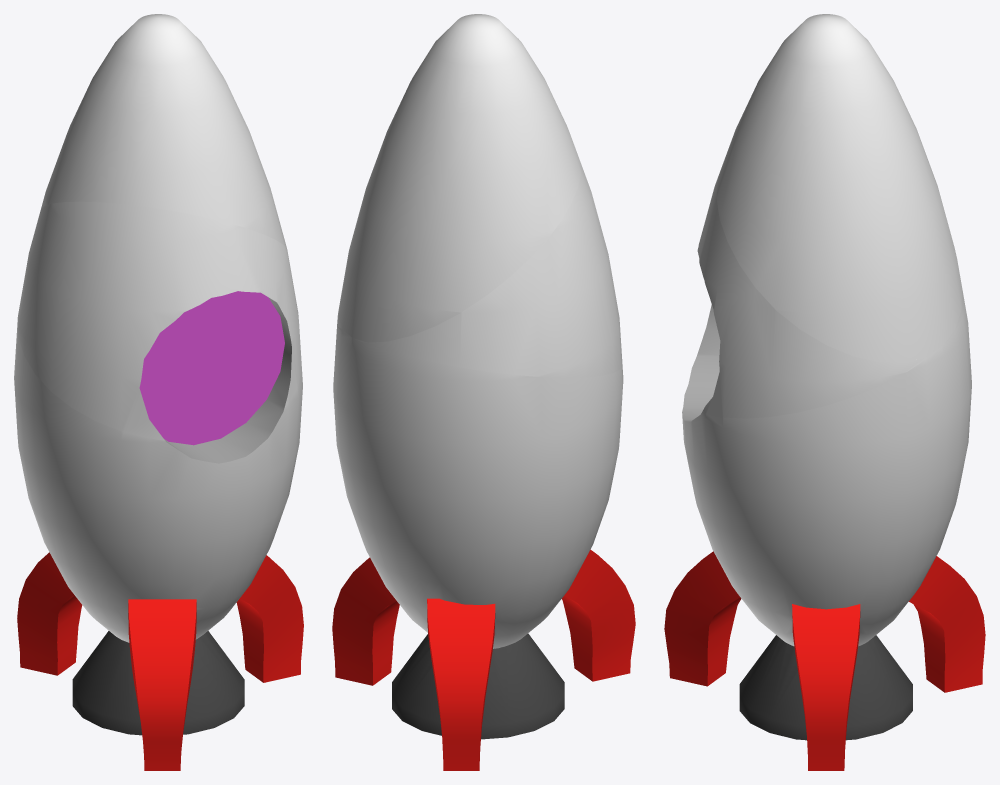
File: mode_break_rocket.FBX
3 renders of one model, left to right at view 1: azimuth 30°, elevation 25°; view 2: azimuth 150°, elevation 25°; view 3: azimuth 270°, elevation 25°, orthographic.
Parts seen in each view (by area): view 1: Sphere001_Part_2, Sphere001_Part_3, Sphere001_Part_1; view 2: Sphere001_Part_2, Sphere001_Part_1, Sphere001_Part_3; view 3: Sphere001_Part_2, Sphere001_Part_1, Sphere001_Part_3.
Part boxes in pixels (x1=…): Sphere001_Part_2: x1=14, y1=321, x2=303, y2=770; Sphere001_Part_3: x1=17, y1=201, x2=301, y2=440; Sphere001_Part_1: x1=41, y1=14, x2=287, y2=249; Sphere001_Part_2: x1=332, y1=326, x2=635, y2=770; Sphere001_Part_1: x1=338, y1=14, x2=580, y2=342; Sphere001_Part_3: x1=337, y1=163, x2=622, y2=377; Sphere001_Part_2: x1=664, y1=307, x2=985, y2=770; Sphere001_Part_1: x1=716, y1=14, x2=961, y2=362; Sphere001_Part_3: x1=697, y1=167, x2=965, y2=418.
Bounding box in the file's own units: 520 × 1298 × 550.
Materials: 1 (1 with a texture image).
